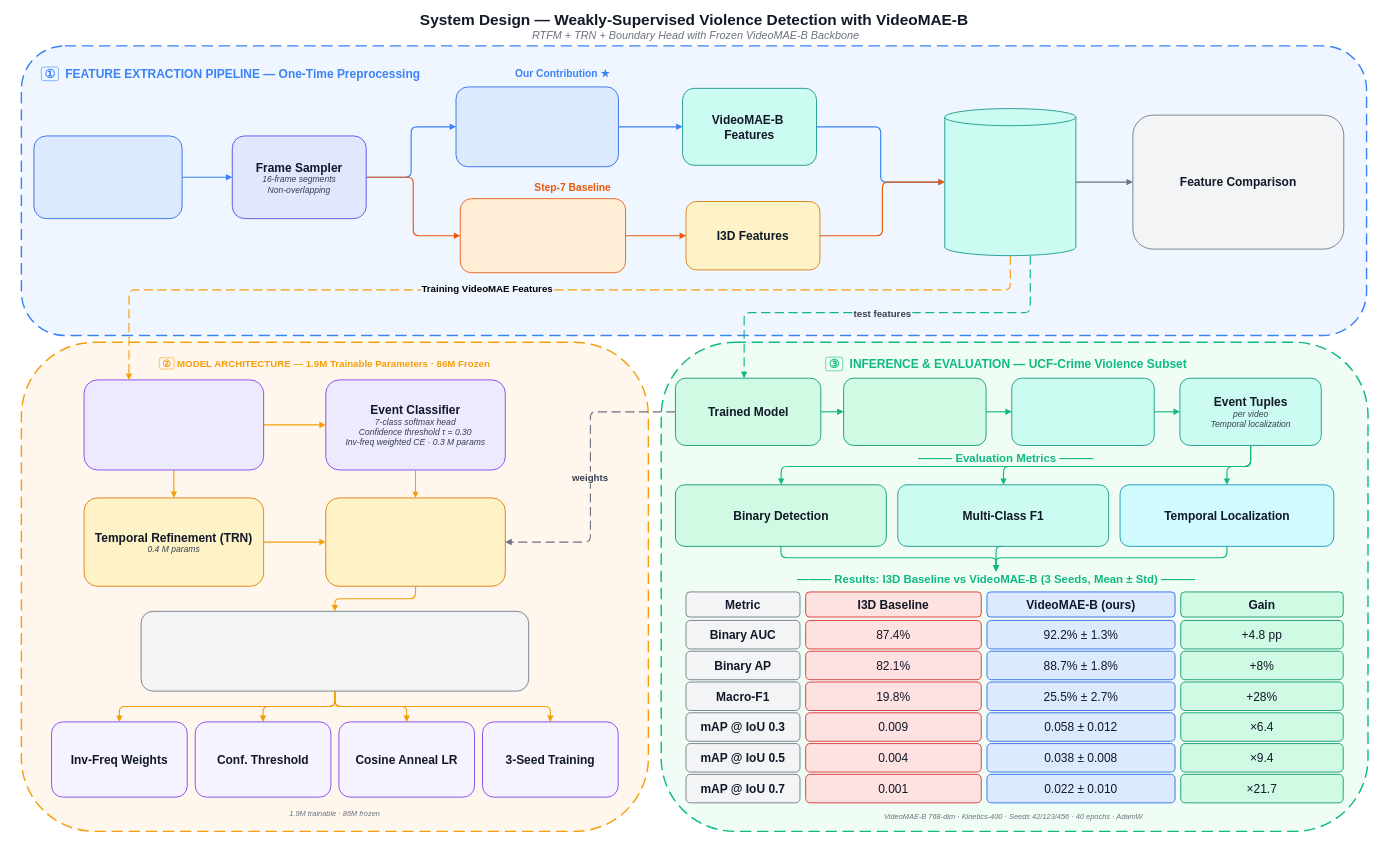
Image size: 1387x842. Some labels were removed from this diagram. Here are the shapes that lost their labels. From the top down, the centre of each, then its label:
At point 537,126: "VideoMAE-B Backbone ★ Frozen ViT-B · Kinetics-400 D = 768-dim output tokens".
At point 107,177: "UCF-Crime Dataset".
At point 1010,182: "Feature Cache".
At point 543,235: "I3D Backbone Frozen · Kinetics-400 Two-stream RGB + Flow D = 2048-dim features".
At point 173,424: "MIL Anomaly Scorer 1.1 M params".
At point 914,412: "Inference Pipeline Temporal smoothing".
At point 1082,412: "Post-Processing".
At point 415,541: "Boundary Head 0.1 M params".
At point 334,651: "Full Training Objective L = L_MIL + λ₁L_cls + λ₂L_bnd + λ₃L_smooth".
